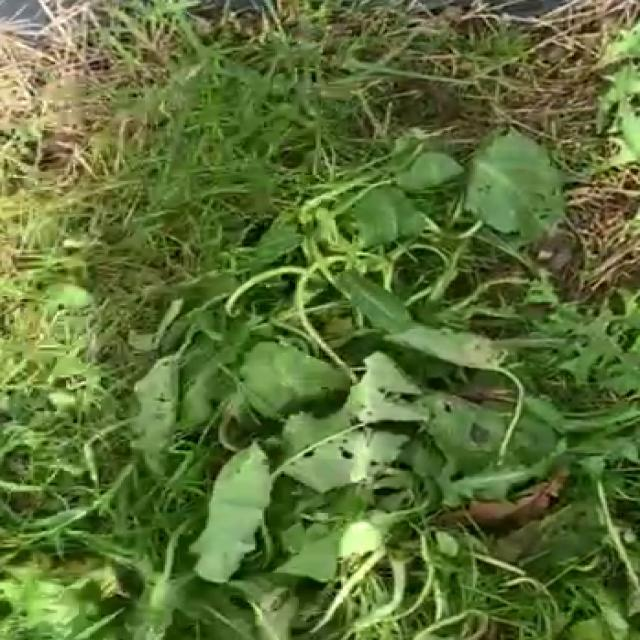organic waste: (137, 149, 640, 598)
